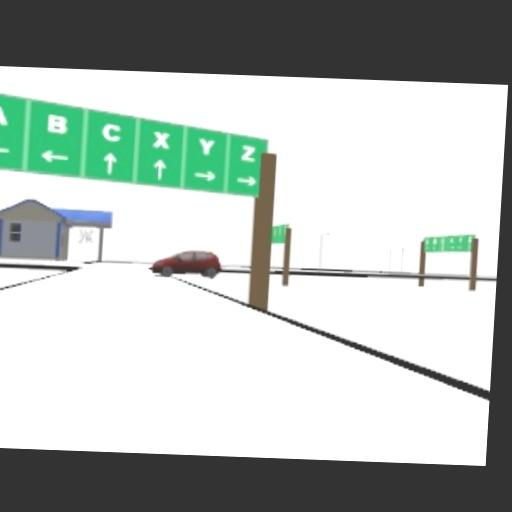A: (0, 99, 10, 124)
B: (47, 112, 69, 135)
C: (101, 122, 122, 141)
Left: (41, 148, 73, 161), (0, 137, 12, 153)
Right: (188, 169, 216, 180), (232, 174, 258, 185)
Straight: (152, 158, 169, 179), (102, 151, 118, 172)
X: (152, 128, 172, 149)
Y: (197, 136, 218, 156)
Z: (240, 141, 257, 164)
